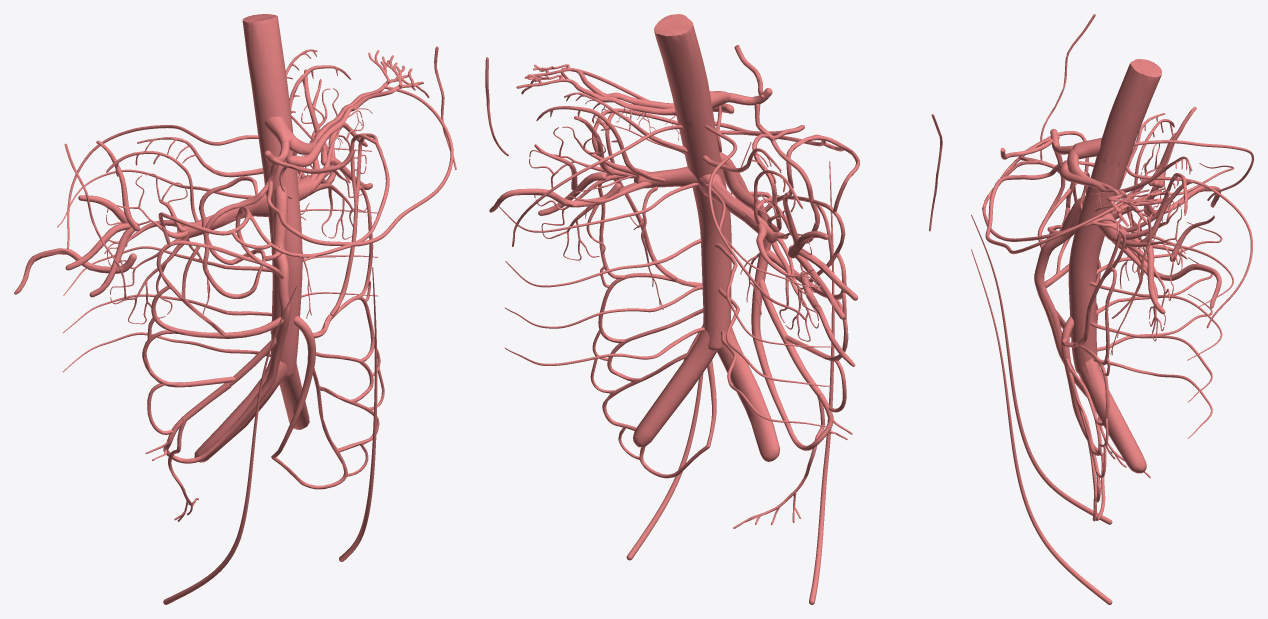
Rendered from arteres-abdomen.hi.glb.
3 views of the same model, side by side, from view 1: azimuth 30°, elevation 25°; view 2: azimuth 150°, elevation 25°; view 3: azimuth 270°, elevation 25° (orthographic). The views are drawn at different scales.
Parts seen in each view (by area): view 1: FJ1932, FJ3636, FJ3590, FJ3542, FJ3638, FJ2011, FJ3644, FJ3565, FJ2025, FJ3604, FJ2562, FJ3511 (+14 smaller); view 2: FJ1932, FJ3464, FJ3632, FJ3565, FJ3636, FJ3638, FJ3644, FJ3604, FJ3542, FJ2025, FJ3590, FJ3511 (+15 smaller); view 3: FJ1932, FJ3464, FJ3632, FJ3638, FJ3511, FJ3636, FJ3542, FJ3644, FJ3604, FJ2025, FJ2562, FJ3640 (+19 smaller).
Part boxes in pixels (x1,y1,x2,y2): FJ1932: [242, 14, 302, 377]; FJ3636: [57, 169, 272, 372]; FJ3590: [151, 240, 283, 338]; FJ3542: [158, 142, 389, 278]; FJ3638: [271, 352, 384, 489]; FJ2011: [163, 186, 290, 463]; FJ3644: [163, 186, 290, 463]; FJ3565: [194, 358, 287, 462]; FJ2025: [147, 133, 380, 434]; FJ3604: [163, 286, 297, 604]; FJ2562: [286, 55, 429, 166]; FJ3511: [339, 267, 377, 561]; FJ1932: [654, 14, 731, 350]; FJ3464: [633, 326, 716, 447]; FJ3632: [499, 183, 704, 365]; FJ3565: [716, 327, 779, 461]; FJ3636: [704, 184, 832, 427]; FJ3638: [590, 308, 710, 478]; FJ3644: [719, 152, 832, 450]; FJ3604: [809, 161, 834, 604]; FJ3542: [615, 108, 859, 212]; FJ2025: [592, 110, 846, 412]; FJ3590: [766, 195, 846, 299]; FJ3511: [626, 142, 751, 560]; FJ1932: [1068, 59, 1161, 374]; FJ3464: [1079, 359, 1146, 473]; FJ3632: [1089, 225, 1233, 438]; FJ3638: [1065, 358, 1106, 521]; FJ3511: [971, 249, 1112, 604]; FJ3636: [1096, 163, 1233, 351]; FJ3542: [982, 131, 1090, 248]; FJ3644: [1035, 195, 1103, 396]; FJ3604: [971, 214, 1112, 524]; FJ2025: [1000, 156, 1126, 447]; FJ2562: [1059, 160, 1149, 235]; FJ3640: [1067, 148, 1165, 235].
Size of the model in its own units: 0.2358 by 0.3053 by 0.1526.
